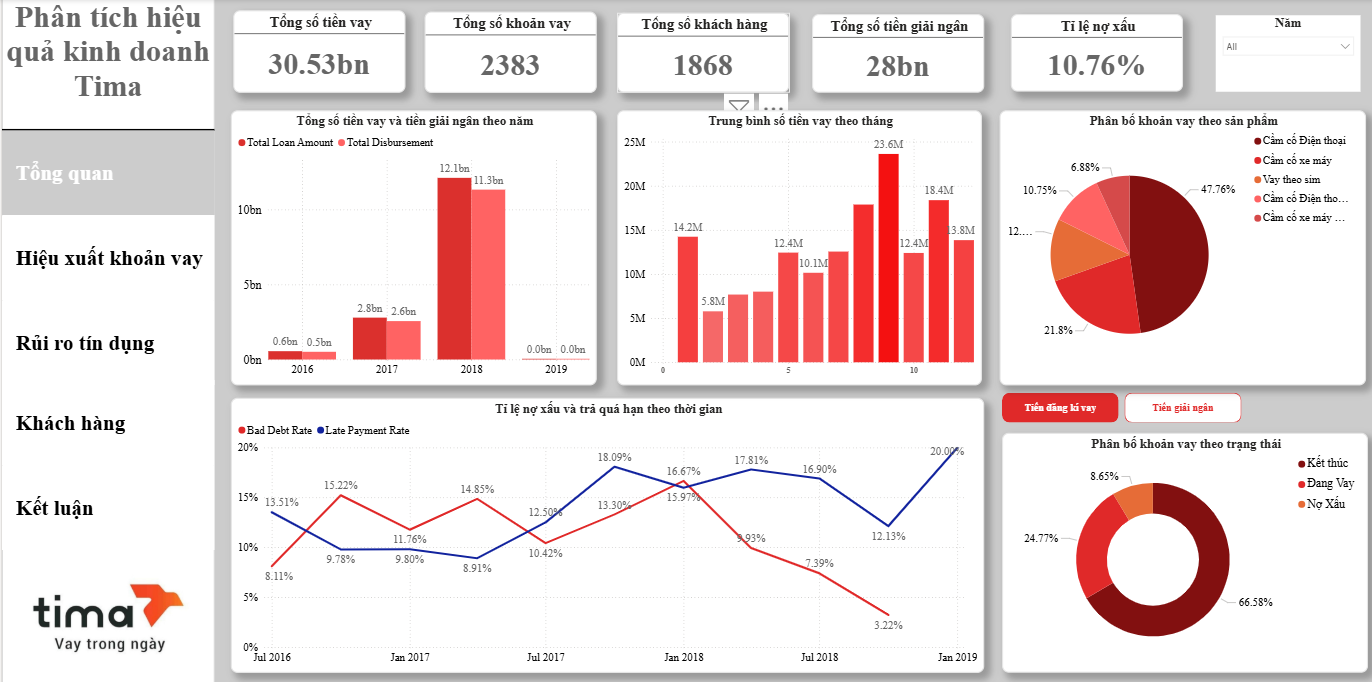

What the dashboard file says about the page in this screenshot:
{"tool":"powerbi","page":{"name":"Tổng quan","canvas":[2000,1000],"ordinal":0},"visuals":[{"type":"shape","box":[0,0,308.9,999.3],"z":0},{"type":"shape","title":"TKV xanh","box":[1453.2,572.5,169.6,43.5],"z":2000},{"type":"donutChart","title":"Phân bố khoản vay theo trạng thái","fields":{"Category":["LoanTable.LoanStatus"],"Y":["Measure.Total Loan Count"]},"box":[1453.5,630.5,532.3,348.8],"z":4000},{"type":"shape","title":"TGN Trang","box":[1631.7,571.7,170,43.3],"z":5000},{"type":"card","title":"Tổng số tiền vay","fields":{"Values":["Measure.Total Loan Amount"]},"box":[336.5,16.4,250.7,119.9],"z":6000},{"type":"card","title":"Tổng số khách hàng","fields":{"Values":["Measure.Total Customer"]},"box":[894.3,20,250.7,116.3],"z":7000},{"type":"card","title":"Tổng số tiền giải ngân","fields":{"Values":["Measure.Total Disbursement"]},"box":[1177.7,21.8,250.7,114.5],"z":8000},{"type":"card","title":"Tổng số khoản vay","fields":{"Values":["Measure.Total Loan Count"]},"box":[614.5,18.2,250.7,118.1],"z":10000},{"type":"clusteredColumnChart","title":"Tổng số tiền vay và tiền giải ngân theo năm","fields":{"Y":["Measure.Total Loan Amount","Measure.Total Disbursement"],"Category":["DateTable.Date.Variation.Date Hierarchy.Year"]},"box":[332.5,161.7,532.3,399.7],"z":11000},{"type":"pieChart","title":"Phân bố khoản vay theo sản phẩm","fields":{"Category":["LoanTable.ProductCreditName"],"Y":["Measure.Total Loan Count"]},"box":[1449.9,161.7,533,400],"z":12000},{"type":"lineChart","title":"Tỉ lệ nợ xấu và trả quá hạn theo thời gian","fields":{"Y":["Measure.Bad Debt Rate","Dax.Late Payment Rate"],"Category":["DateTable.Date.Variation.Date Hierarchy.Year","DateTable.Date.Variation.Date Hierarchy.Quarter"]},"box":[332.5,579.6,1095.6,399.7],"z":13000},{"type":"columnChart","title":"Trung bình số tiền vay theo tháng","fields":{"Y":["Measure.Avg Loan"],"Category":["DateTable.Month Number"]},"box":[893.9,161.7,530.5,399.7],"z":14000},{"type":"card","title":"Tỉ lệ nợ xấu","fields":{"Values":["Dax.Bad Debt Rate"]},"box":[1466.6,21.8,250.7,112.6],"z":15000},{"type":"shape","box":[0,190.8,308.9,123.5],"z":16000},{"type":"shape","box":[0,437.9,308.9,123.5],"z":17000},{"type":"shape","box":[0,554.1,308.9,123.5],"z":18000},{"type":"image","box":[0,804.9,308.9,194.4],"z":19000},{"type":"shape","box":[0,314.3,308.9,123.5],"z":20000},{"type":"shape","box":[0,677.7,308.9,123.5],"z":21000},{"type":"slicer","title":"Năm","fields":{"Values":["DateTable.Year"]},"box":[1764.2,23.6,210.8,110.8],"z":22000},{"type":"shape","box":[0,167,309.2,44.6],"z":23000}]}

Visuals, with their boxes in screenshot pixels (x1, y1, x2, y2), scaled from the page's 2000x1000 canvas onto the 1372x682 screenshot:
shape: rect(0, 0, 212, 681)
"TKV xanh" shape: rect(997, 390, 1113, 420)
"Phân bố khoản vay theo trạng thái" donutChart: rect(997, 430, 1362, 668)
"TGN Trang" shape: rect(1119, 390, 1236, 419)
"Tổng số tiền vay" card: rect(231, 11, 403, 93)
"Tổng số khách hàng" card: rect(613, 14, 785, 93)
"Tổng số tiền giải ngân" card: rect(808, 15, 980, 93)
"Tổng số khoản vay" card: rect(422, 12, 594, 93)
"Tổng số tiền vay và tiền giải ngân theo năm" clusteredColumnChart: rect(228, 110, 593, 383)
"Phân bố khoản vay theo sản phẩm" pieChart: rect(995, 110, 1360, 383)
"Tỉ lệ nợ xấu và trả quá hạn theo thời gian" lineChart: rect(228, 395, 980, 668)
"Trung bình số tiền vay theo tháng" columnChart: rect(613, 110, 977, 383)
"Tỉ lệ nợ xấu" card: rect(1006, 15, 1178, 92)
shape: rect(0, 130, 212, 214)
shape: rect(0, 299, 212, 383)
shape: rect(0, 378, 212, 462)
image: rect(0, 549, 212, 681)
shape: rect(0, 214, 212, 299)
shape: rect(0, 462, 212, 546)
"Năm" slicer: rect(1210, 16, 1355, 92)
shape: rect(0, 114, 212, 144)
